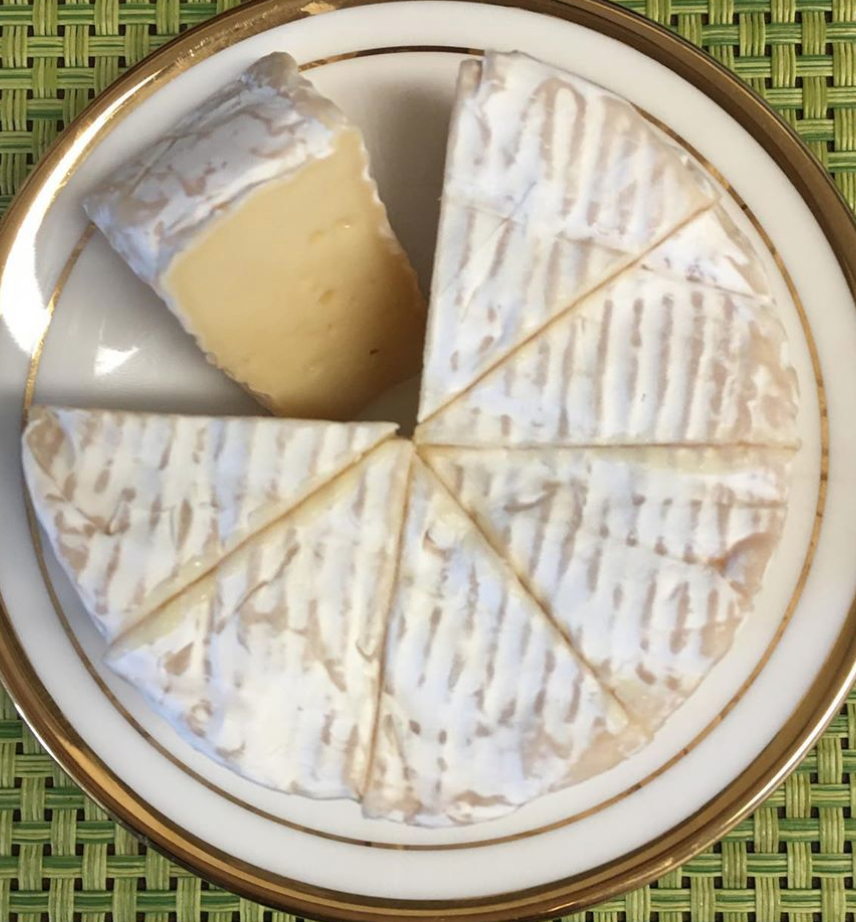camembert: (16, 49, 804, 827)
